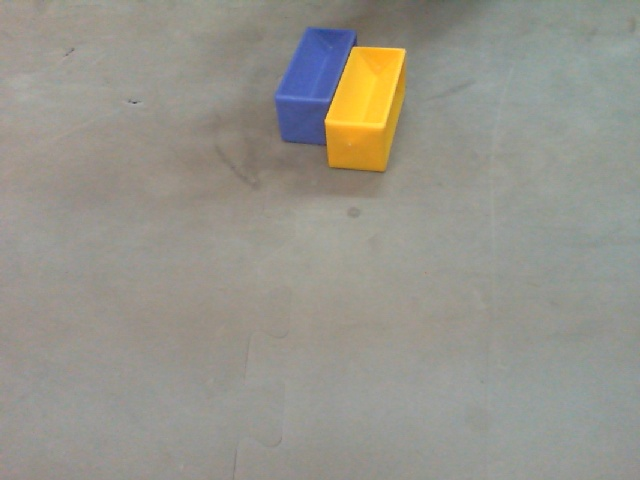BlueSample: (274, 25, 356, 153)
YellowSample: (323, 46, 408, 171)
